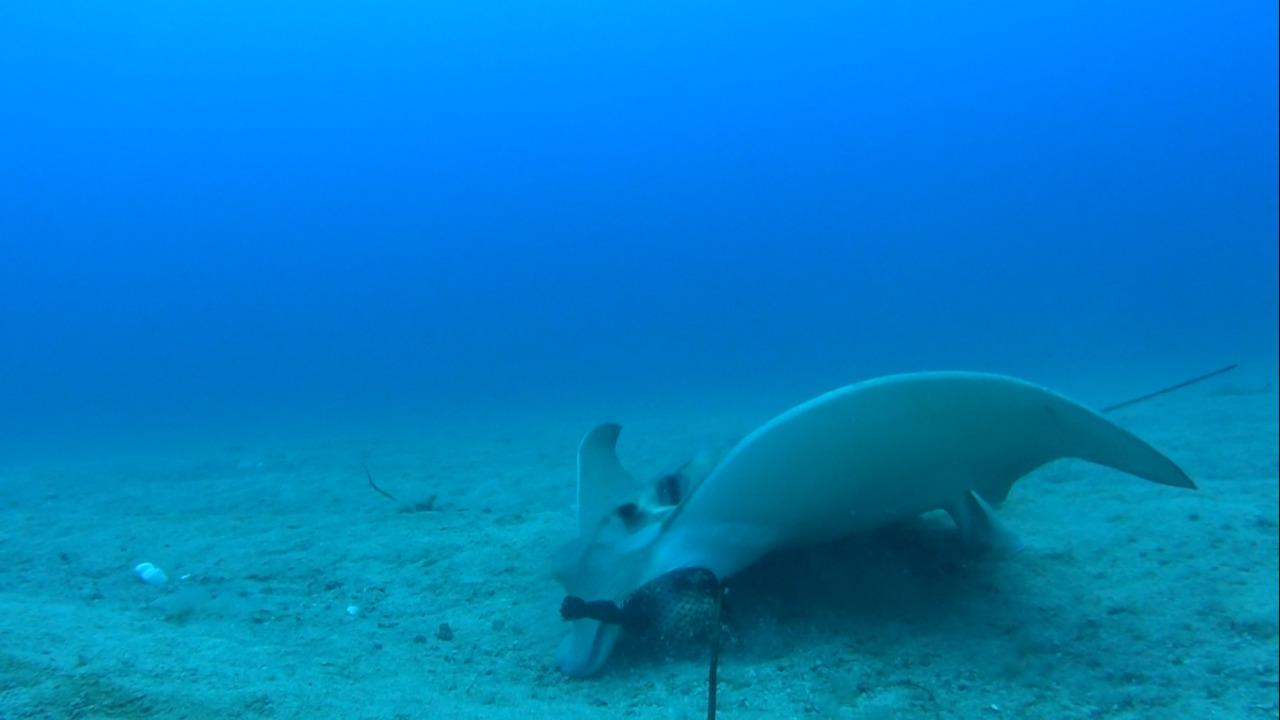myliobatis: (542, 358, 1250, 678)
